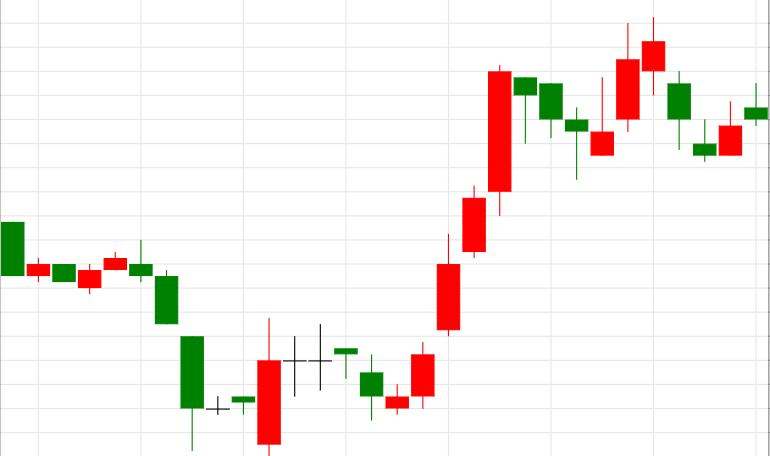morning_star_rise: (284, 323, 435, 420)
three_white_soldiers_rise: (283, 65, 511, 419)
